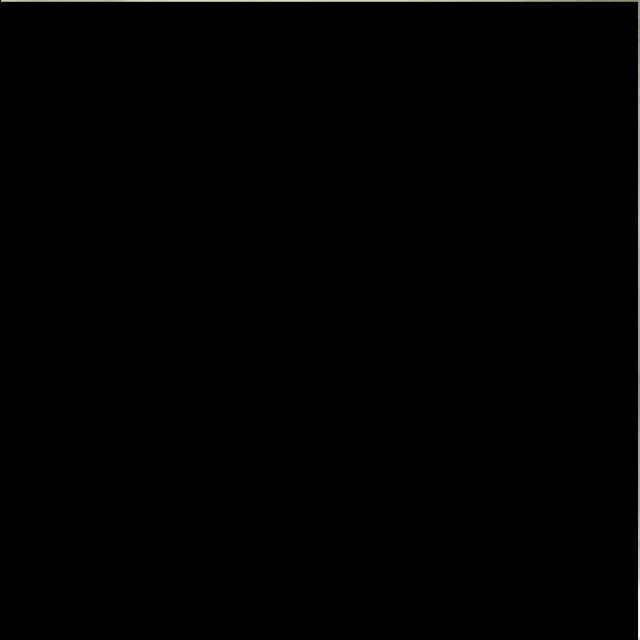smoke: (0, 2, 637, 640)
